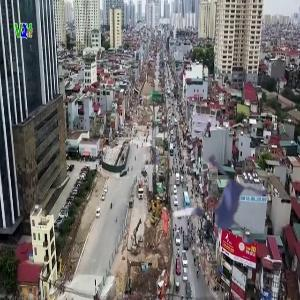drone: (148, 134, 286, 272)
